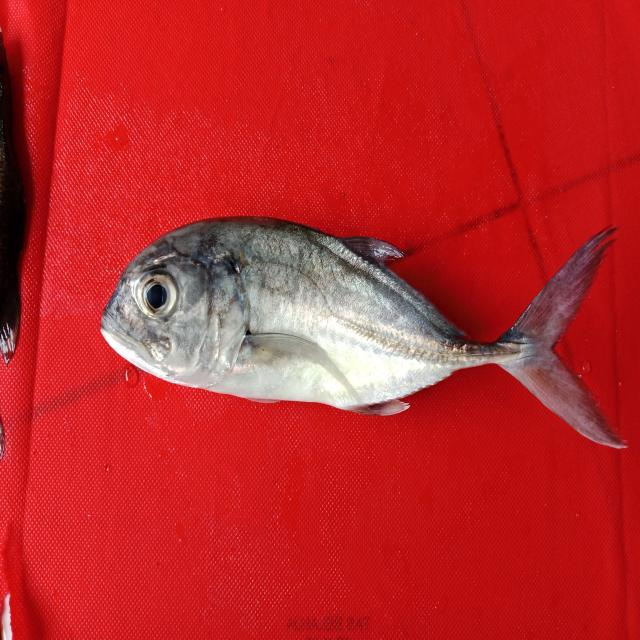ikan: (80, 203, 630, 452)
